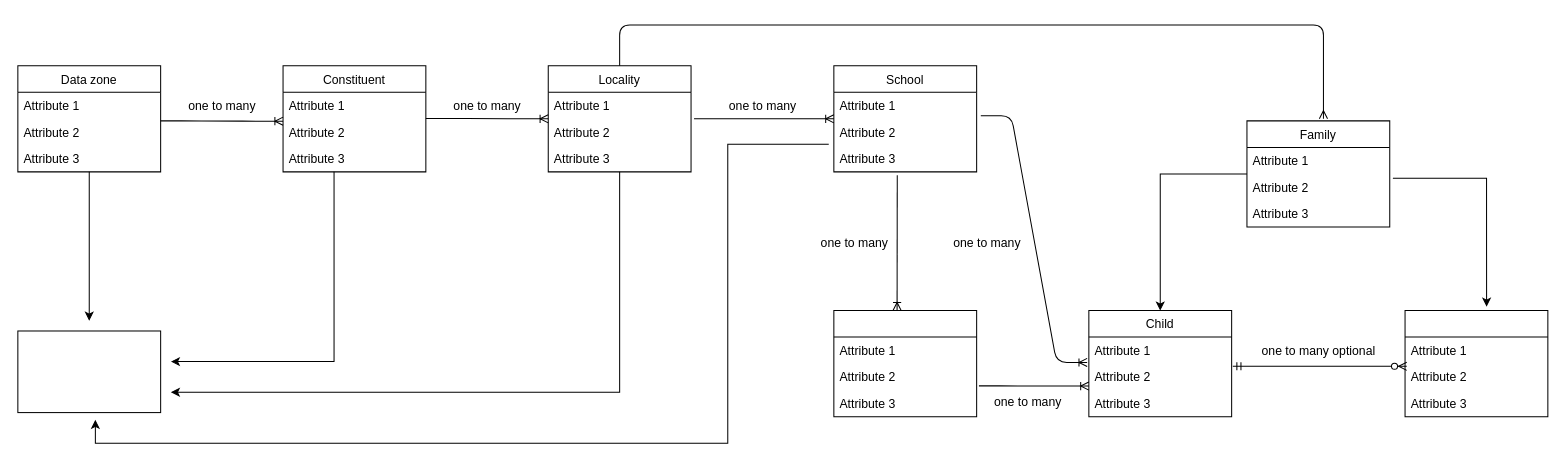
The diagram is 1566 pixels wide and 469 high, and some of its shapes have lost their labels. The shapes that lost their labels are listed below. From the top down, each one's box as (x1, y1, x2, y2) in pixels, then its label:
(17, 330, 161, 413): Indicator data
(833, 310, 977, 417): Teacher
(1404, 310, 1548, 417): Parent
